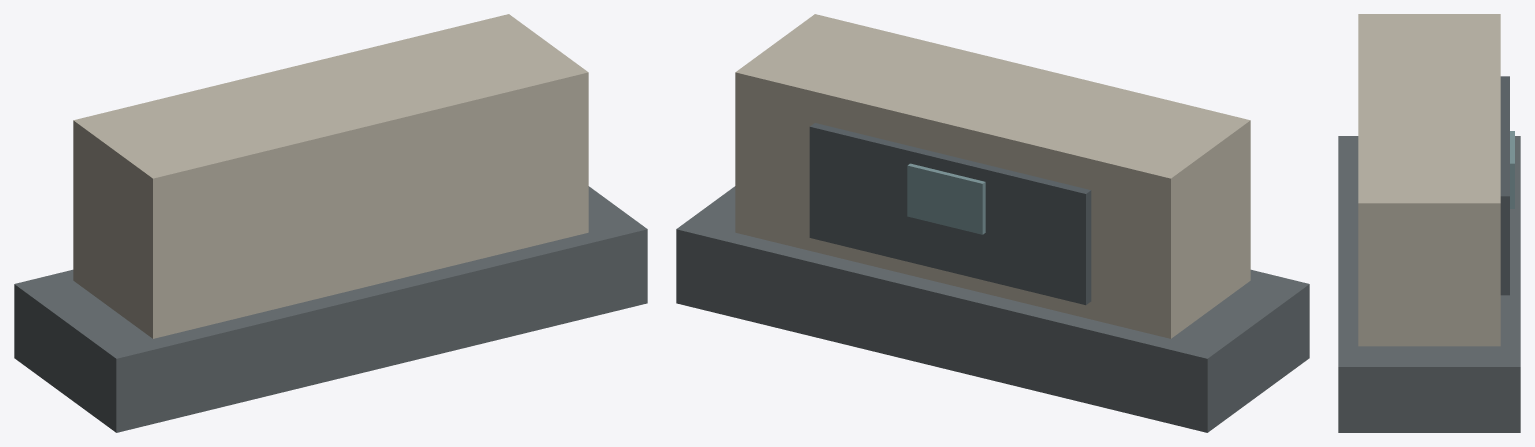
The model's file is iz3_school_canteen_01.glb.
The picture shows the model from 3 angles, left to right: view 1: azimuth 30°, elevation 25°; view 2: azimuth 150°, elevation 25°; view 3: azimuth 270°, elevation 25°; orthographic projection. The views are drawn at different scales.
Parts seen in each view (by area): view 1: cabinet, base; view 2: cabinet, base, panel, display; view 3: cabinet, base, panel, display.
Part boxes in pixels (box(x1,y1,x2,y2)): cabinet: box(73, 14, 588, 338); base: box(14, 186, 647, 432); cabinet: box(735, 14, 1250, 338); base: box(676, 186, 1309, 432); panel: box(809, 123, 1091, 305); display: box(907, 163, 985, 234); cabinet: box(1358, 14, 1500, 346); base: box(1338, 136, 1520, 432); panel: box(1500, 76, 1509, 295); display: box(1510, 131, 1514, 208).
Size of the model in its own units: 2.4 by 1.01 by 0.8.
